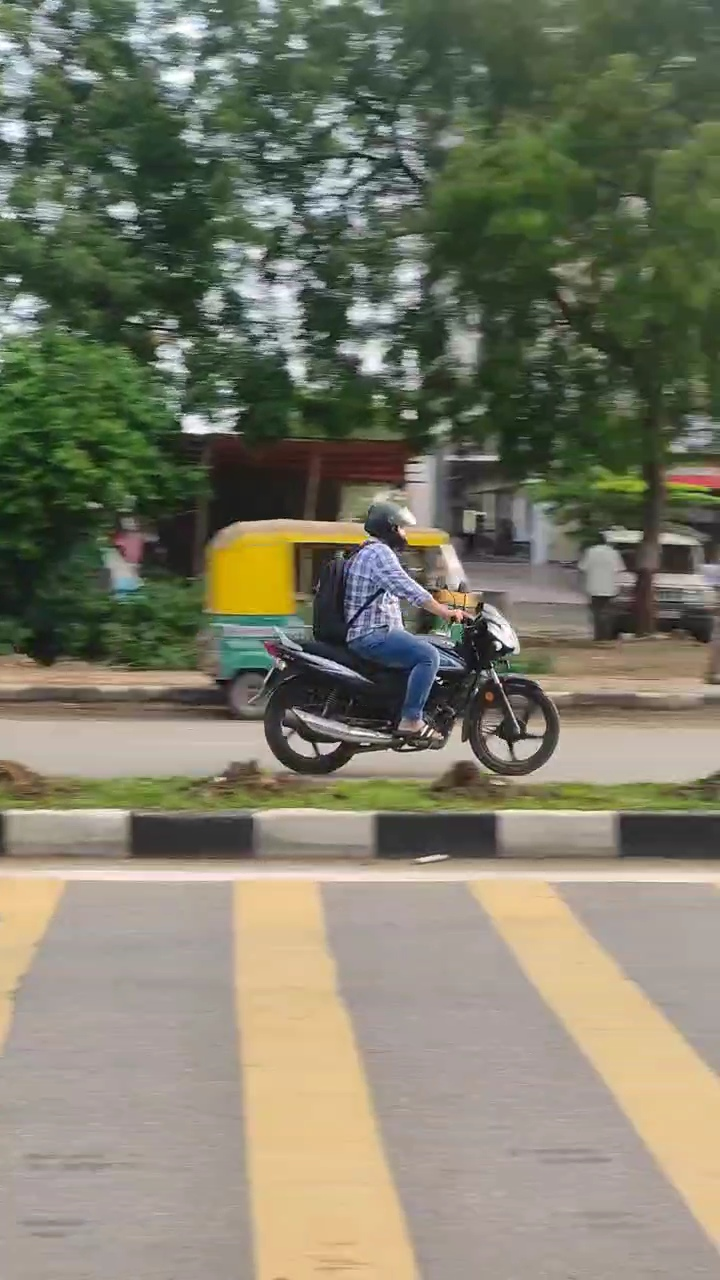BikeWithRider: (248, 472, 581, 814)
Helmet: (350, 475, 423, 553)
